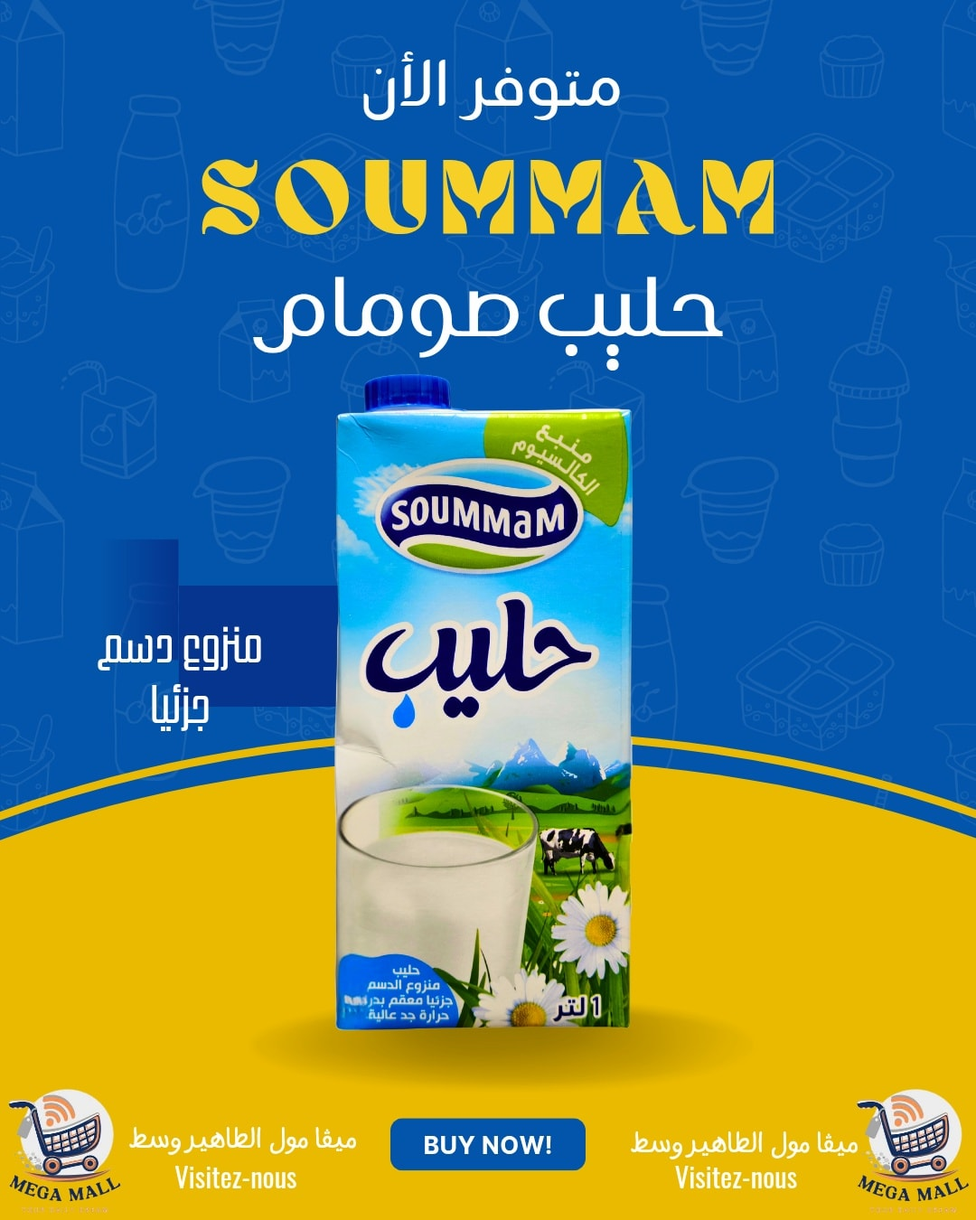soummam_milk: (324, 371, 642, 1041)
